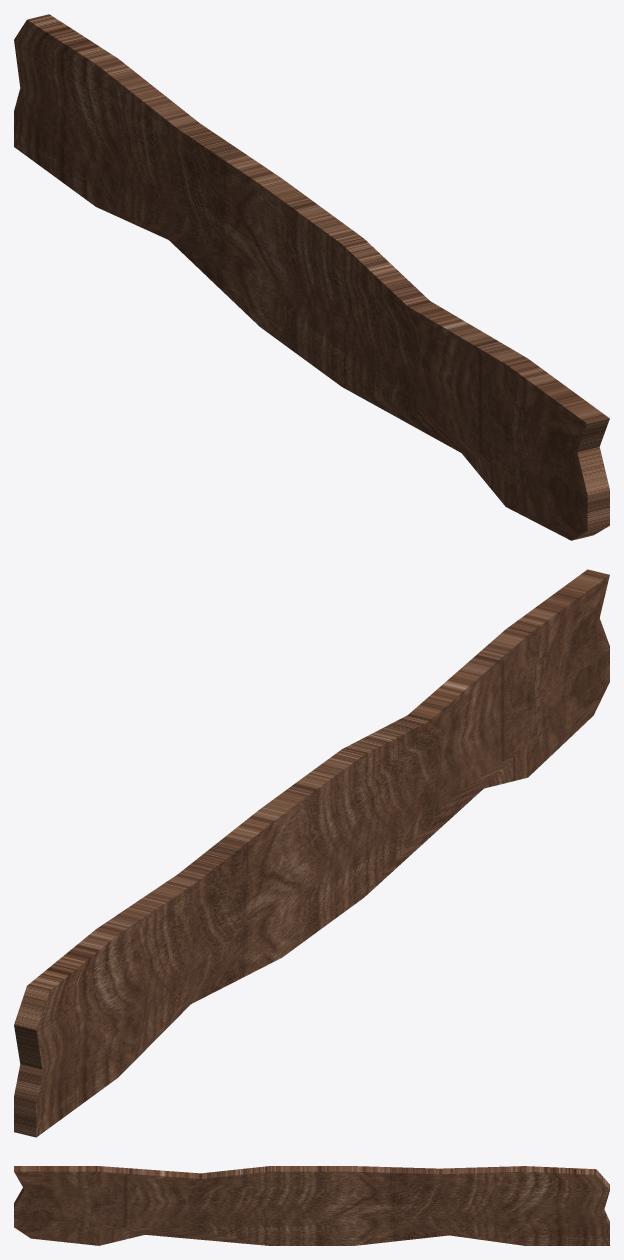
The model's file is wooden board 2.fbx.
The picture shows the model from 3 angles, top to bottom: view 1: azimuth 30°, elevation 25°; view 2: azimuth 150°, elevation 25°; view 3: azimuth 270°, elevation 25°; orthographic projection. The views are drawn at different scales.
Visible parts, largest first — view 1: Wooden Board.001; view 2: Wooden Board.001; view 3: Wooden Board.001.
Part boxes in pixels (x1,y1,x2,y2): Wooden Board.001: [14, 14, 609, 540]; Wooden Board.001: [14, 569, 609, 1137]; Wooden Board.001: [14, 1166, 609, 1245].
Bounding box in the file's own units: 131 × 2.95 × 17.99.
